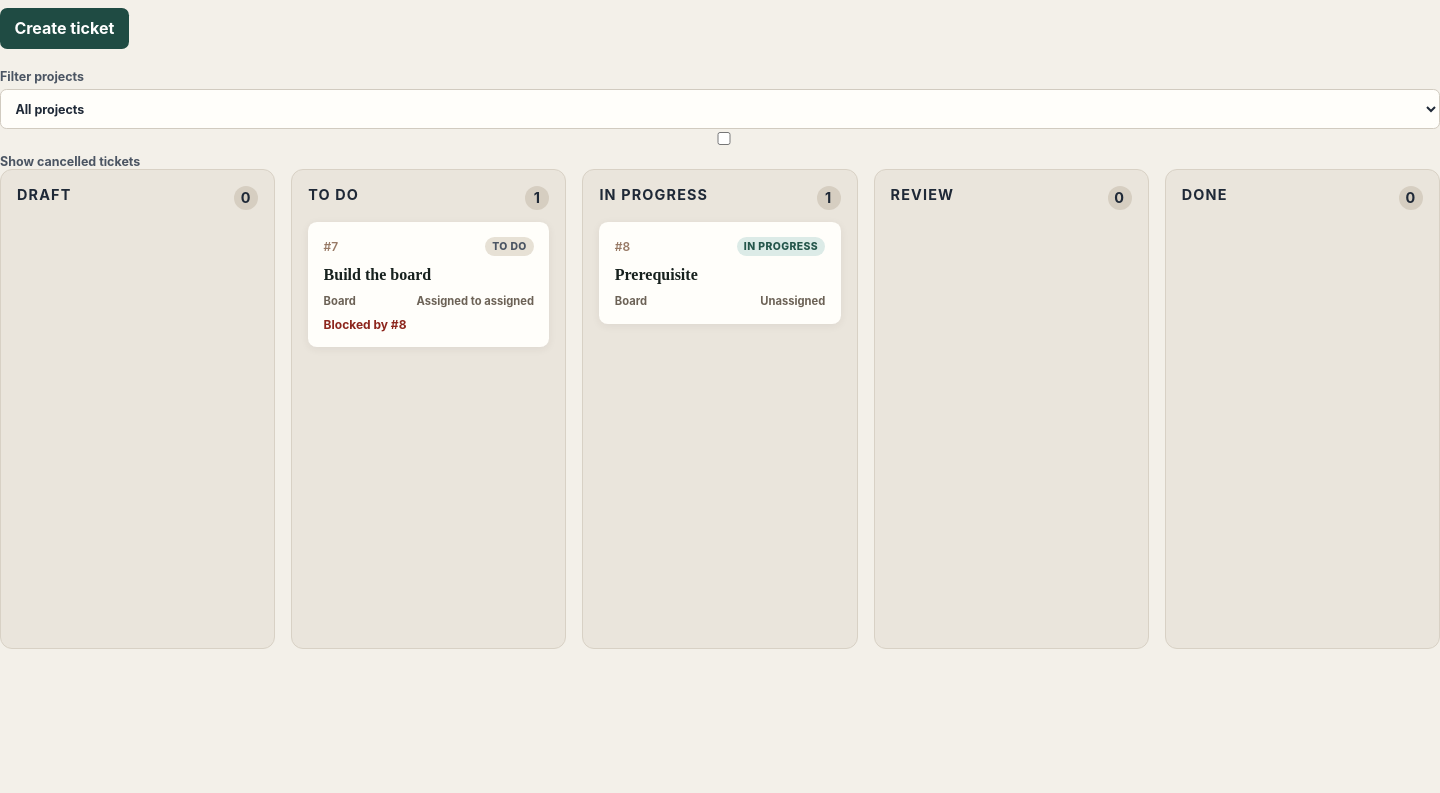
it: KanbanBoard › shows each editable ticket field once at the top of the detail panel
Click the button "Build the board".
click(429, 285)  # box 308,222 -> 549,347
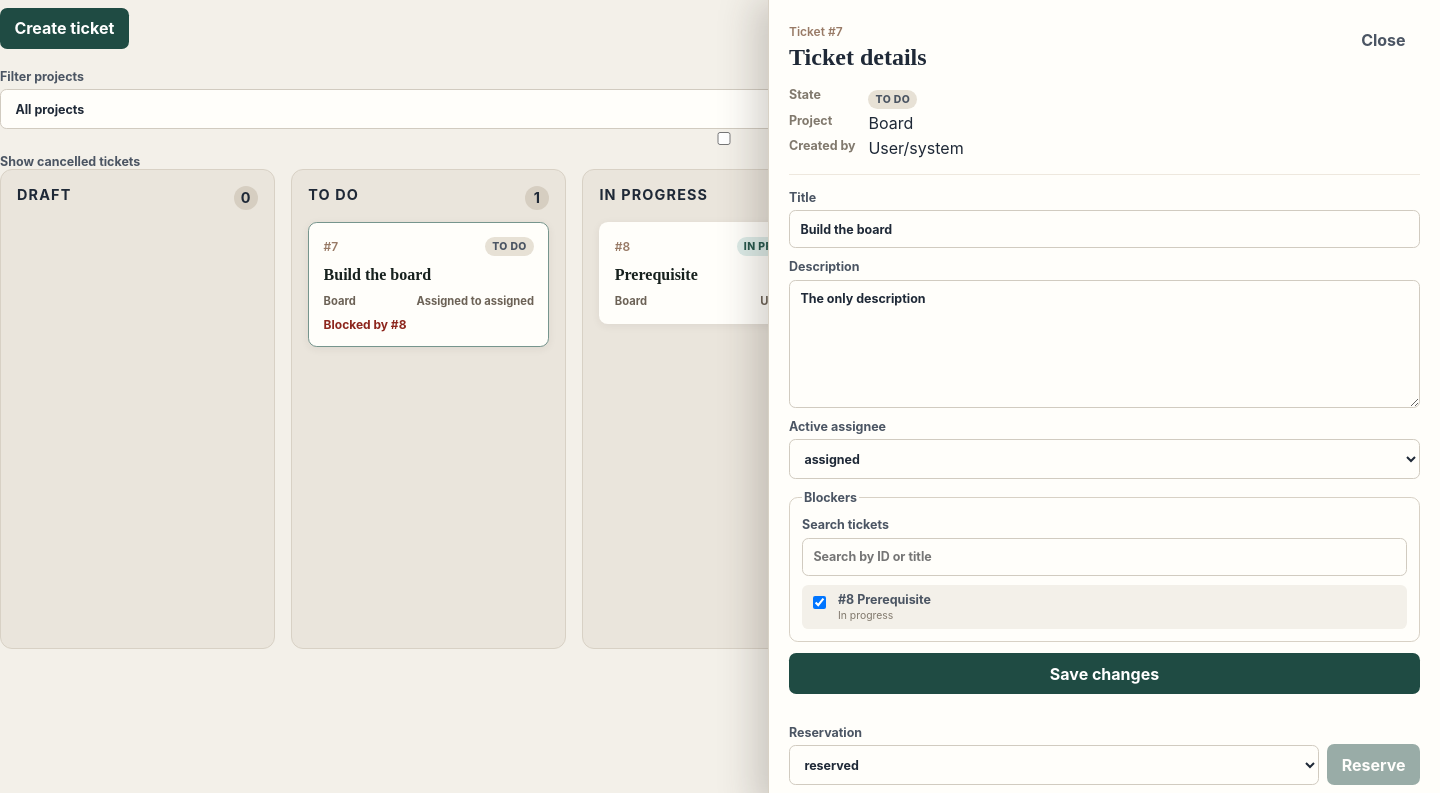
Expected: the number of fields showing "Build the board" is 1, 789,210 -> 1420,248
Expected: the number of text boxes showing "The only description" is 1, 789,280 -> 1420,408
Expected: the number of dropdowns labelled "Active assignee" is 1, 789,439 -> 1420,479
